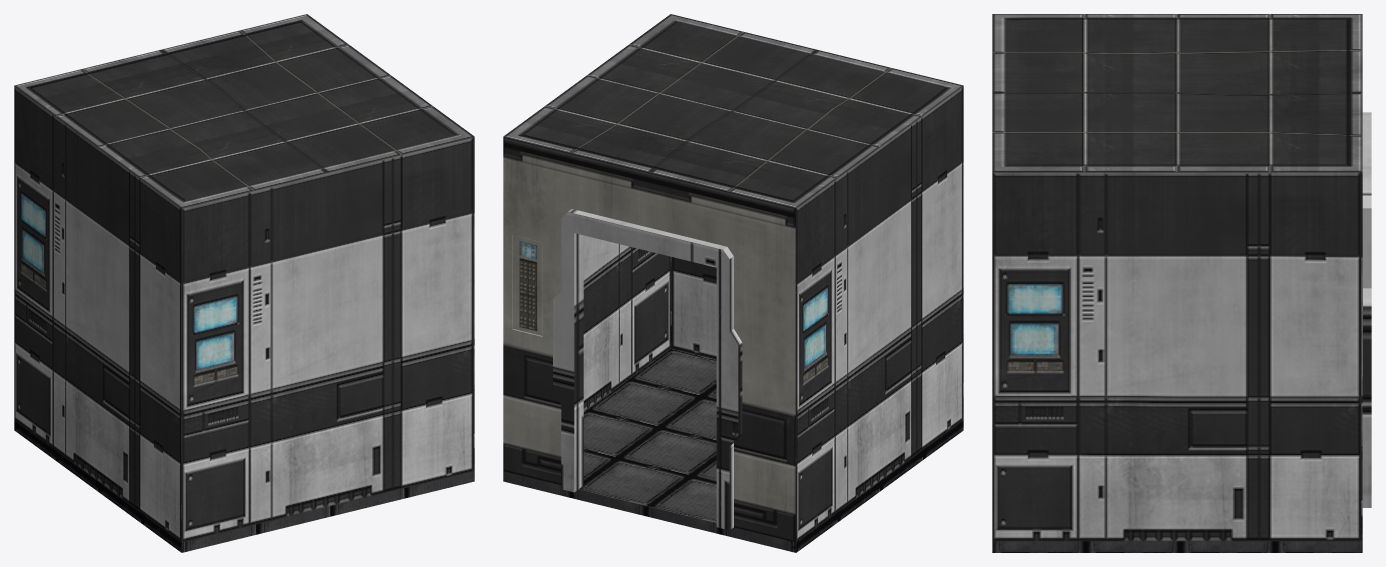
File: Elevator1.fbx
The picture shows the model from 3 angles, left to right: view 1: azimuth 30°, elevation 25°; view 2: azimuth 150°, elevation 25°; view 3: azimuth 270°, elevation 25°; orthographic projection. The views are drawn at different scales.
Parts seen in each view (by area): view 1: Elevator1; view 2: Elevator1; view 3: Elevator1.
Part boxes in pixels (bbox=[...]): Elevator1: bbox=[14, 14, 474, 552]; Elevator1: bbox=[503, 14, 963, 552]; Elevator1: bbox=[992, 14, 1371, 552].
Size of the model in its own units: 4.58 by 5.16 by 4.65.
